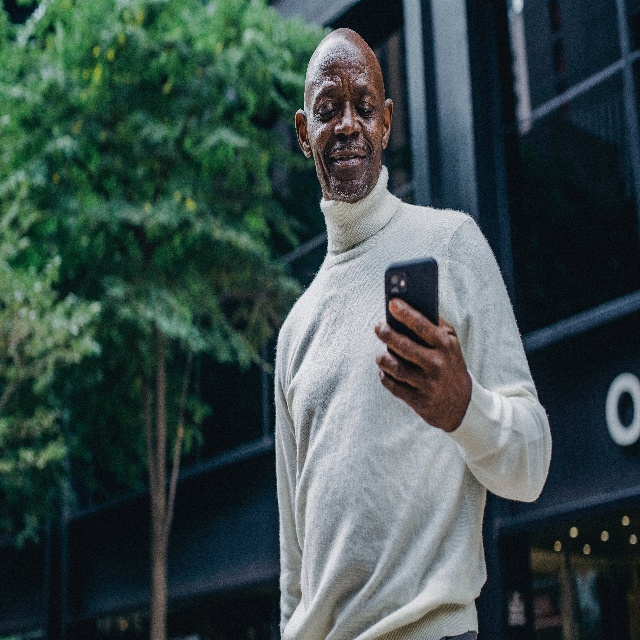Sin_guantes: (372, 292, 471, 436)
